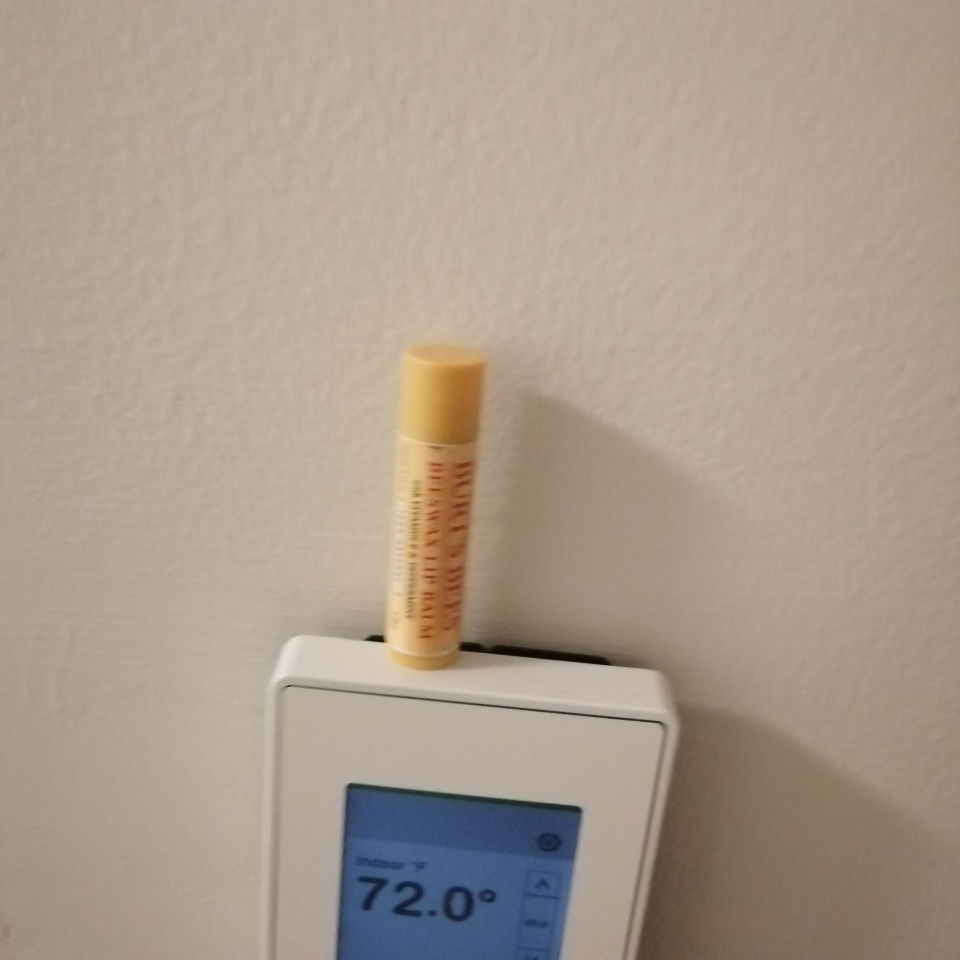chapstick: (385, 346, 489, 672)
